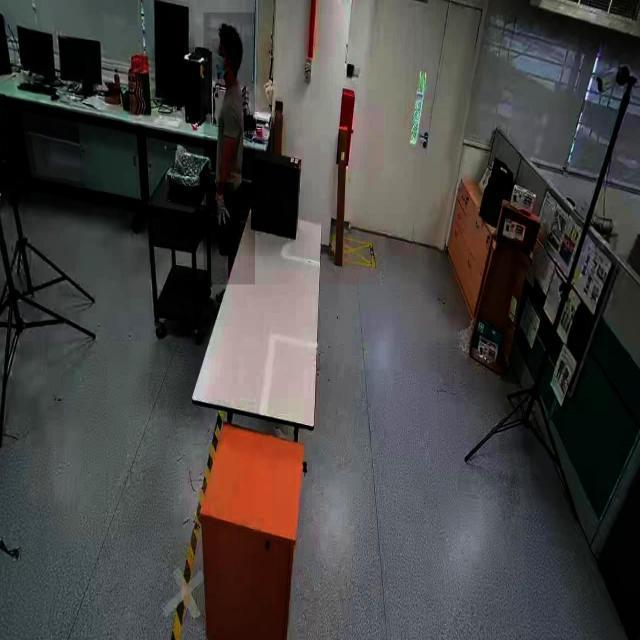gloves: (210, 182, 234, 228)
